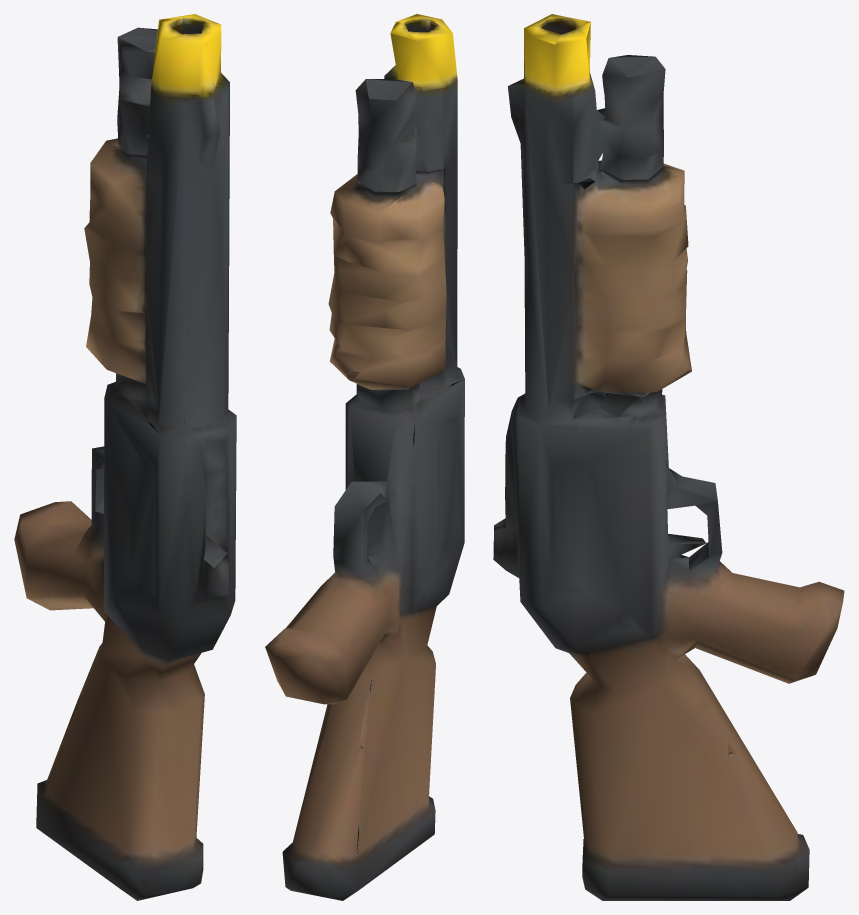
The model's file is breacher.glb.
3 views of the same model, side by side, from view 1: azimuth 30°, elevation 25°; view 2: azimuth 150°, elevation 25°; view 3: azimuth 270°, elevation 25° (orthographic). The views are drawn at different scales.
Visible parts, largest first — view 1: breacher, part_pump; view 2: breacher, part_pump; view 3: breacher, part_pump.
Boxes of the visible parts, x1=… form: breacher: x1=14, y1=14, x2=236, y2=900; part_pump: x1=84, y1=138, x2=147, y2=395; breacher: x1=265, y1=14, x2=464, y2=900; part_pump: x1=328, y1=168, x2=446, y2=390; breacher: x1=493, y1=14, x2=844, y2=900; part_pump: x1=573, y1=160, x2=689, y2=399.
Size of the model in its own units: 0.1211 by 0.9456 by 0.3487.
Materials: 1 (1 with a texture image).
